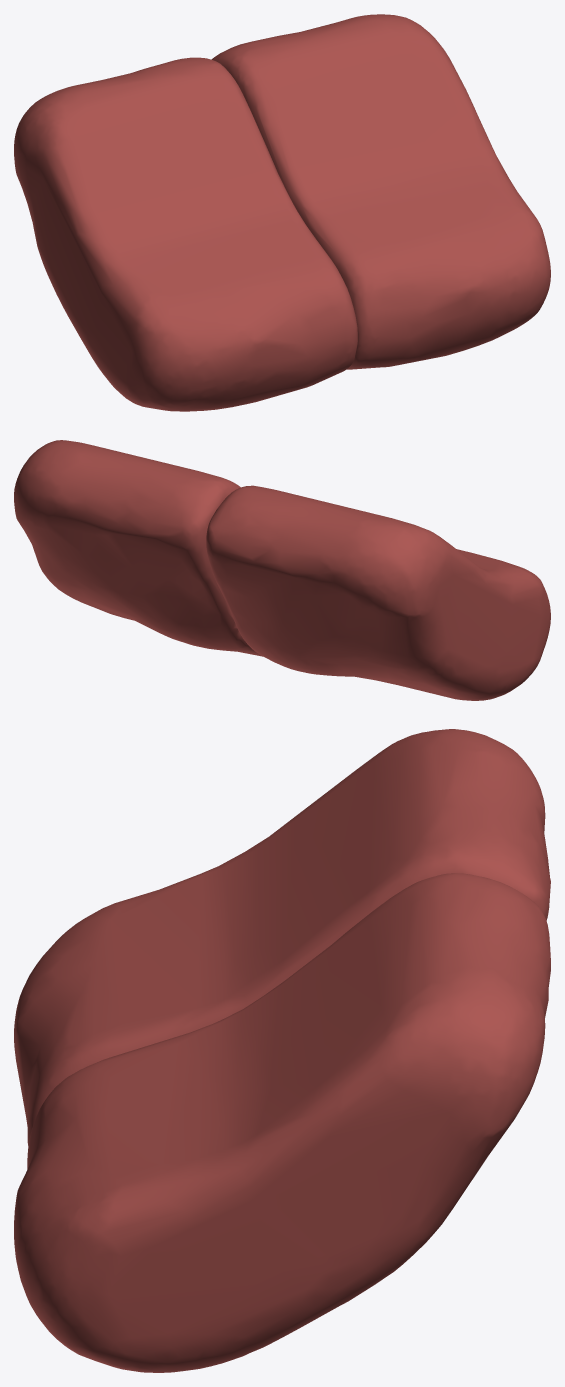
The model's file is FMA62045.glb.
3 views of the same model, one above another, from view 1: azimuth 30°, elevation 25°; view 2: azimuth 150°, elevation 25°; view 3: azimuth 270°, elevation 25° (orthographic). The views are drawn at different scales.
Parts seen in each view (by area): view 1: FMA62045; view 2: FMA62045; view 3: FMA62045.
Boxes of the visible parts, x1=… form: FMA62045: x1=14, y1=14, x2=550, y2=411; FMA62045: x1=14, y1=440, x2=550, y2=700; FMA62045: x1=14, y1=729, x2=550, y2=1372.
Bounding box in the file's own units: 0.0138 × 0.00768 × 0.00976.
